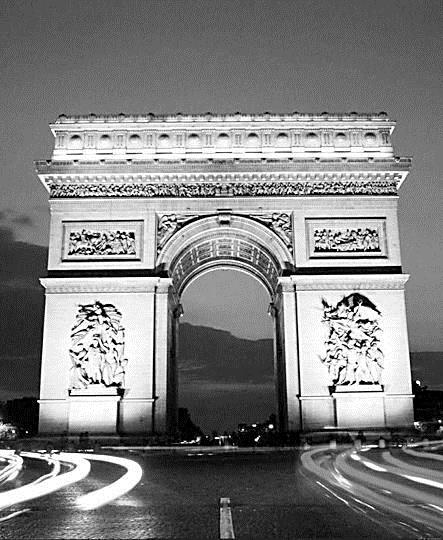Triumphal_Arch: (35, 108, 419, 437)
